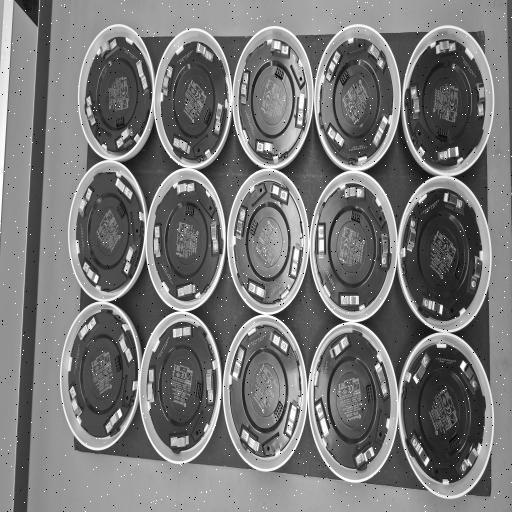konnektor: (446, 435, 462, 455), (363, 383, 376, 406), (347, 208, 362, 225), (202, 106, 213, 129), (273, 400, 284, 422), (194, 380, 203, 406), (248, 218, 259, 238), (338, 69, 350, 87), (182, 203, 197, 217), (454, 262, 464, 282), (438, 124, 450, 140), (116, 202, 126, 221), (114, 114, 126, 128), (114, 354, 122, 374), (273, 66, 285, 79)
yayli: (410, 433, 432, 470), (458, 359, 480, 391), (327, 335, 351, 363), (315, 400, 330, 444), (460, 442, 479, 476), (324, 51, 342, 86), (374, 356, 389, 398), (412, 352, 431, 385), (327, 125, 347, 156), (118, 326, 134, 364), (441, 190, 466, 214), (469, 254, 484, 294), (422, 296, 445, 322), (355, 441, 377, 468), (373, 112, 389, 148), (240, 428, 262, 454), (286, 394, 299, 438), (134, 57, 150, 91), (78, 316, 98, 343), (69, 385, 84, 421), (231, 346, 245, 384), (267, 330, 289, 354), (114, 174, 134, 200), (366, 42, 386, 68), (123, 242, 138, 276), (161, 63, 174, 101), (106, 407, 124, 434), (268, 37, 290, 59), (116, 126, 136, 150), (268, 180, 288, 204), (338, 290, 364, 308), (406, 216, 418, 255), (234, 206, 246, 244), (290, 240, 302, 278), (82, 261, 100, 286), (78, 187, 92, 219), (204, 364, 215, 404), (296, 90, 307, 130), (248, 281, 268, 303), (378, 229, 389, 269), (99, 36, 117, 60), (256, 140, 278, 159), (208, 218, 219, 255), (194, 42, 214, 62), (172, 137, 192, 157), (240, 70, 250, 110), (438, 146, 460, 164), (410, 84, 420, 122), (170, 431, 191, 449), (86, 95, 97, 129), (434, 40, 456, 57), (214, 99, 224, 136), (476, 78, 485, 119), (171, 324, 192, 341), (147, 368, 156, 406), (175, 182, 195, 199), (177, 282, 198, 298), (318, 224, 326, 262), (344, 186, 366, 199), (154, 225, 162, 260)
